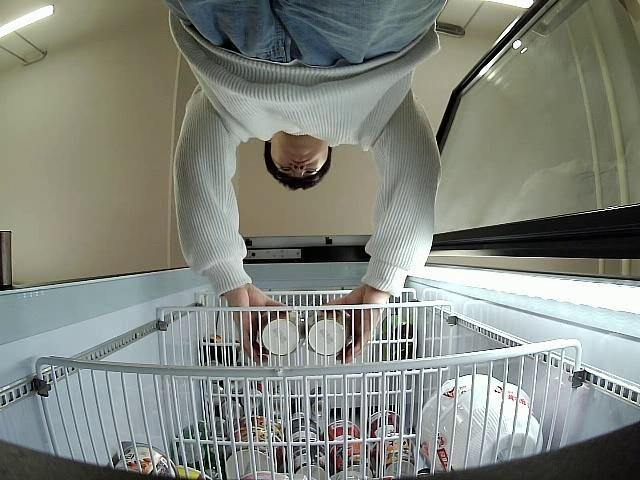04_chapagetti_S: (308, 302, 355, 355), (254, 309, 306, 356)
